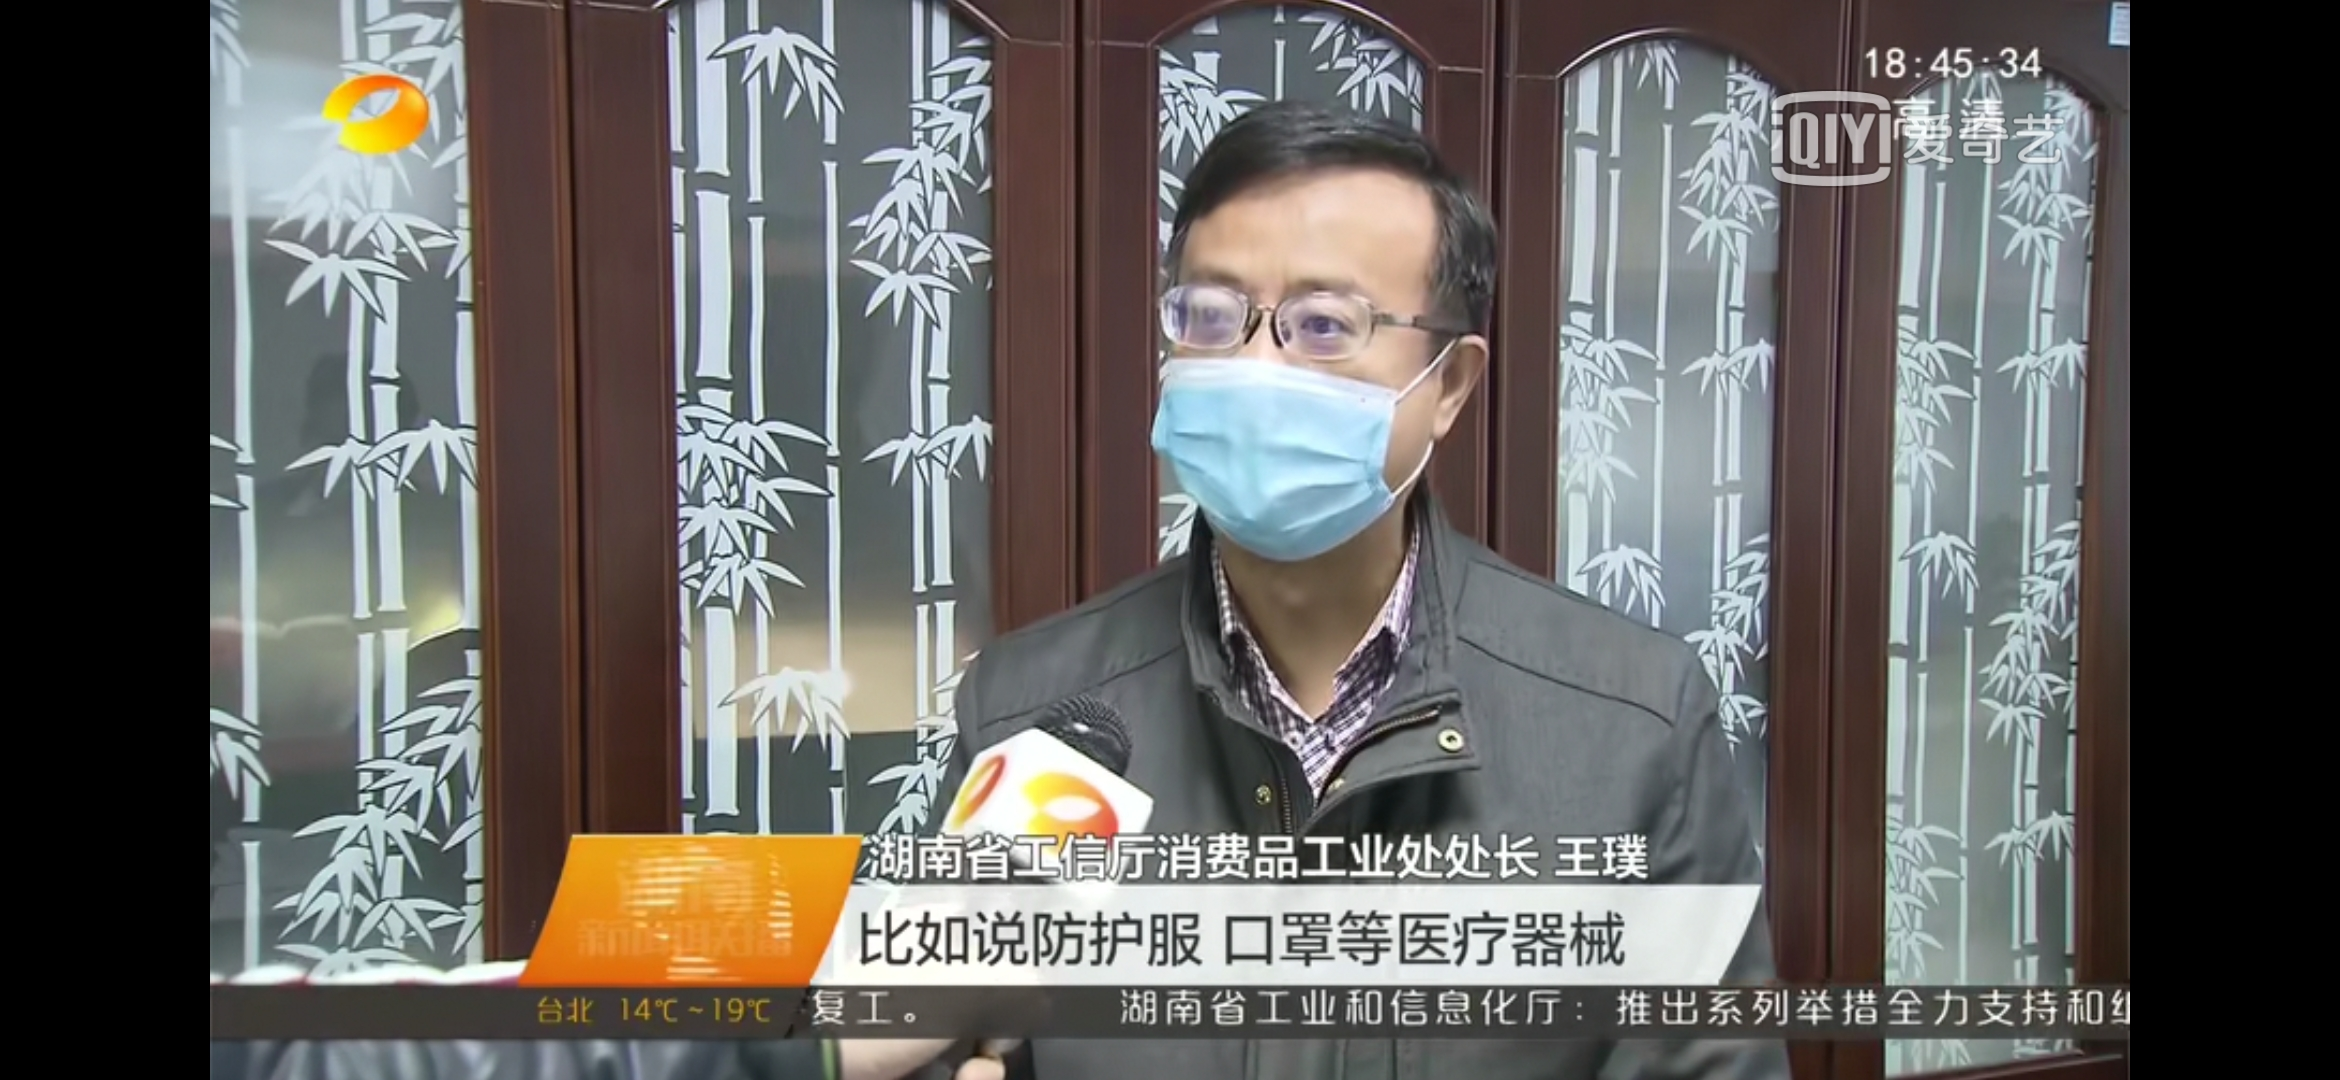correctlyWear: (1155, 251, 1489, 562)
